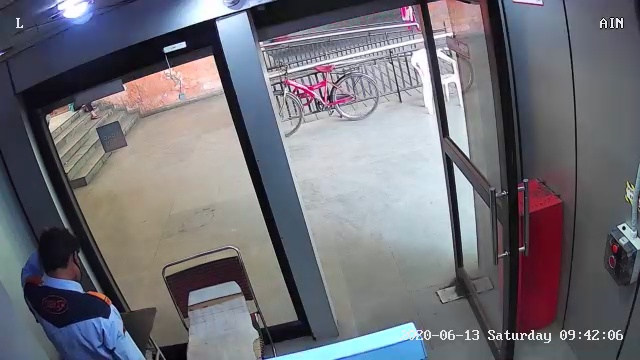open: (405, 4, 557, 357)
